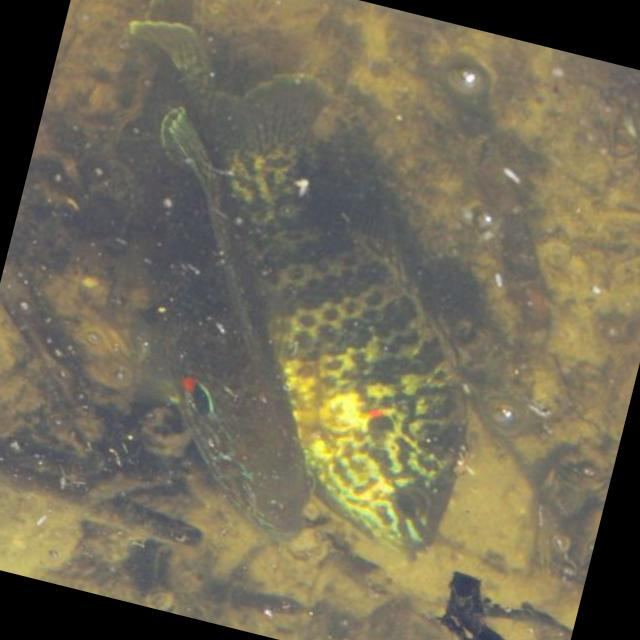Gunes Levregi: (130, 9, 560, 566)
